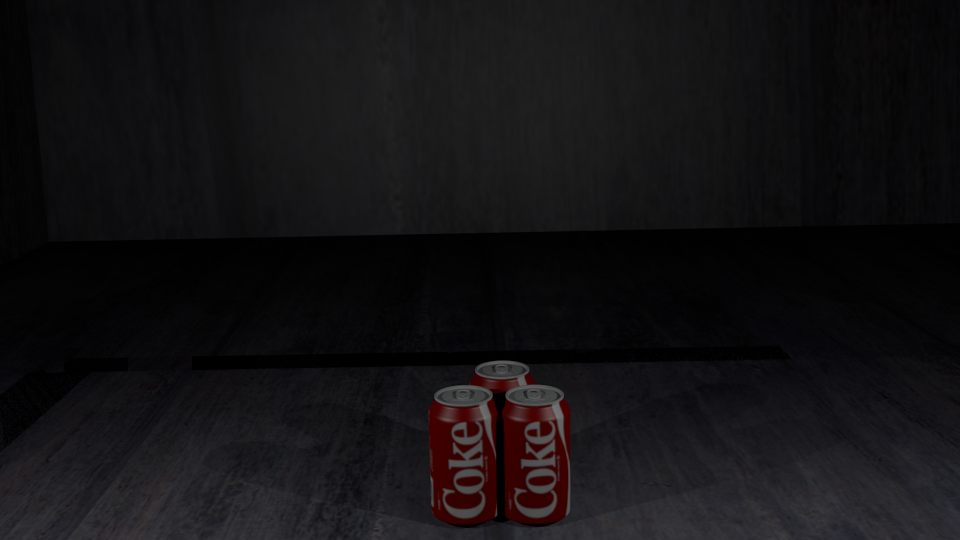cola_can: (429, 386, 499, 521), (500, 385, 569, 519), (470, 361, 534, 487)
